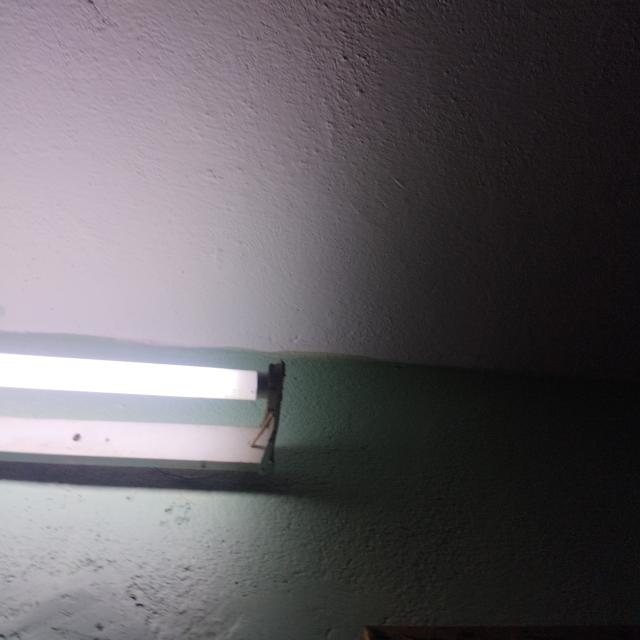tubelight_on: (0, 338, 293, 485)
